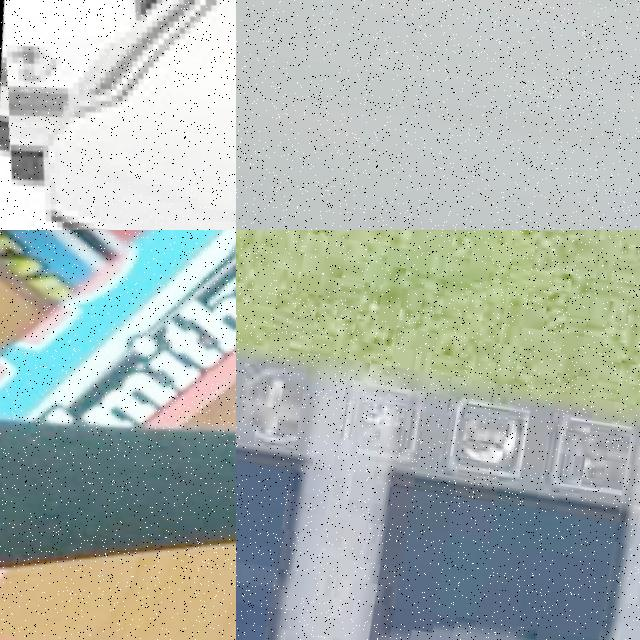drone: (0, 230, 236, 640), (0, 0, 236, 230)
